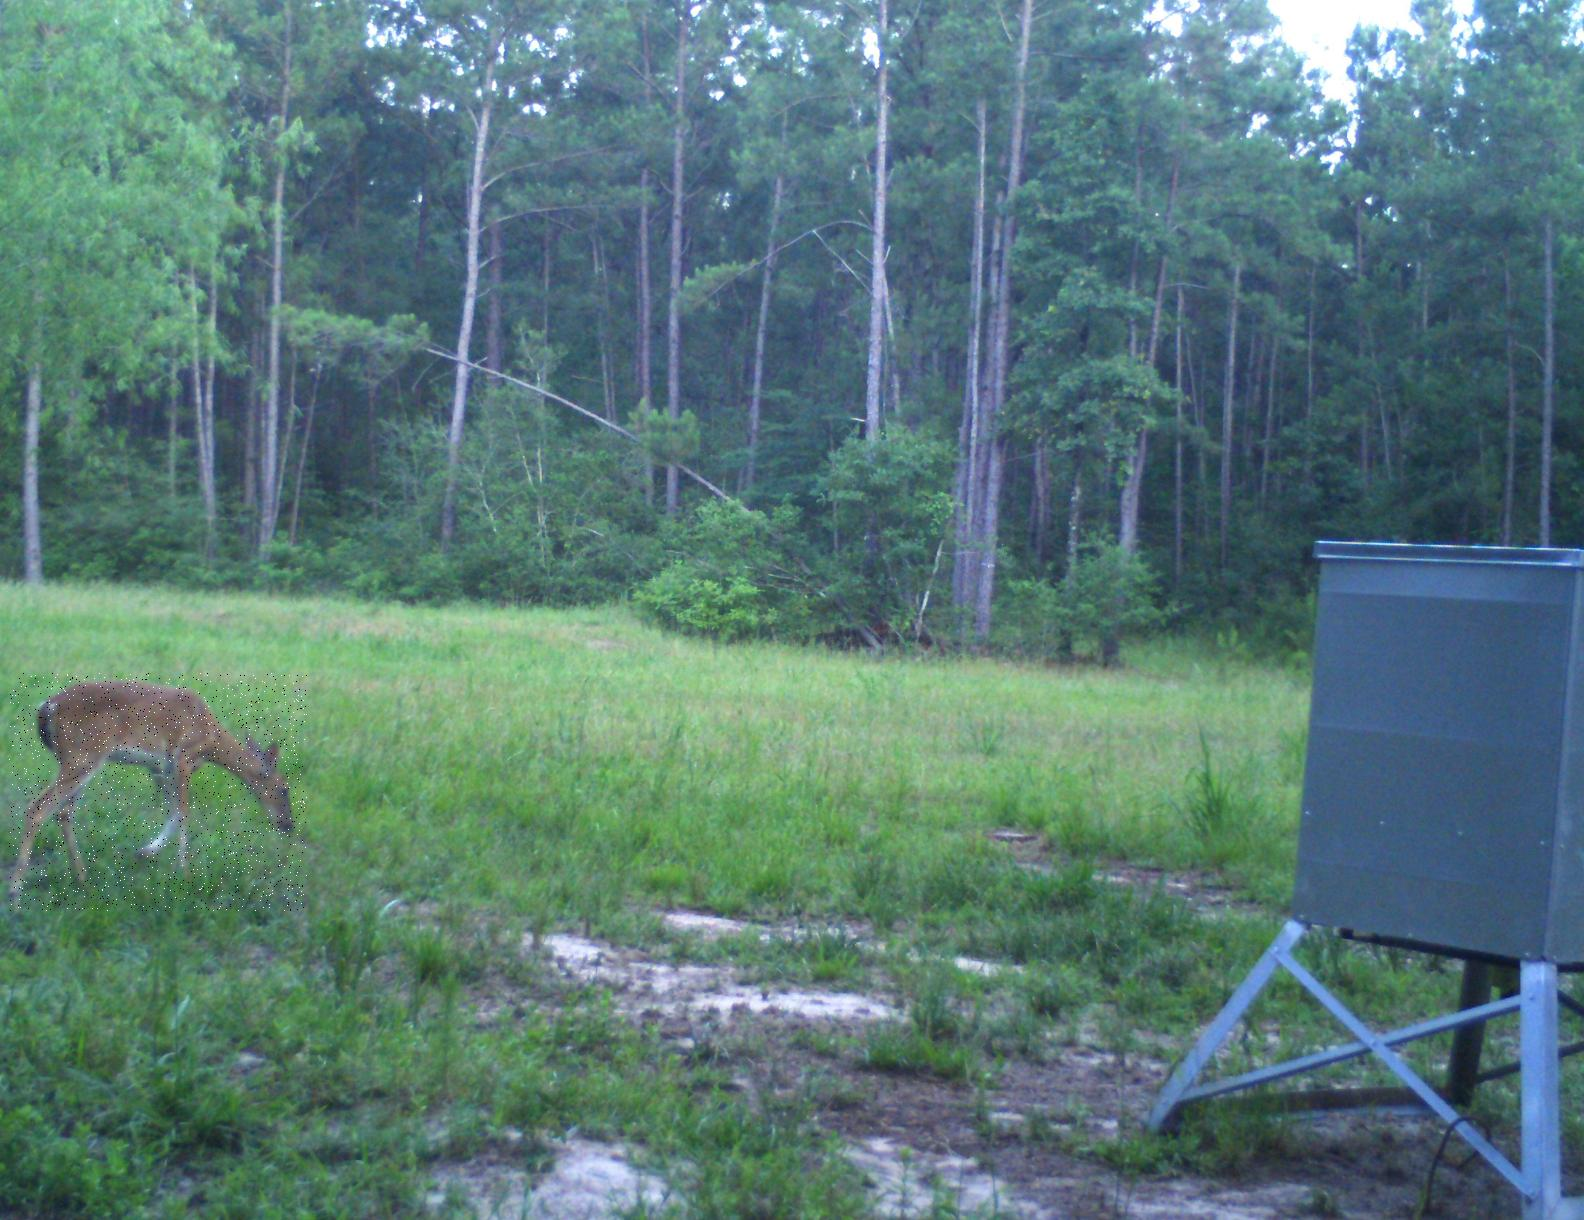Deer: (9, 673, 308, 911)
